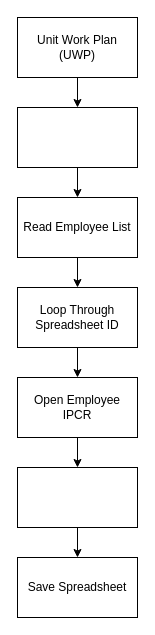
Image size: 155x635. Some labels were removed from this diagram. Here are the shapes that lost their labels. From the top down, the box of each, then its label:
(16, 106, 138, 168): Apps Script
(16, 466, 138, 528): Update Assigned Tasks
